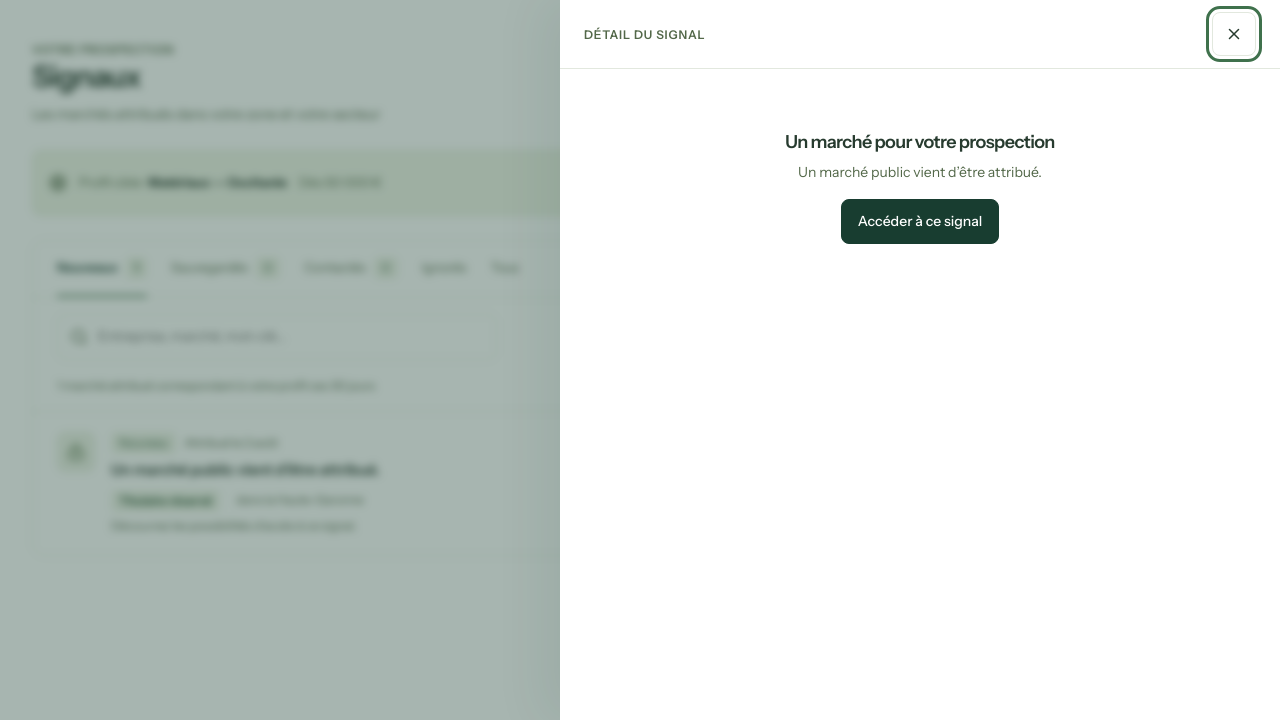
Scenario: signal verrouillé sur un compte payant › le détail n’invite pas à comparer une grille qu’un payant ne verra pas
The width and height of the screenshot is (1280, 720).
Click the button "Accéder à ce signal" at (920, 221), box 841,199 -> 999,244
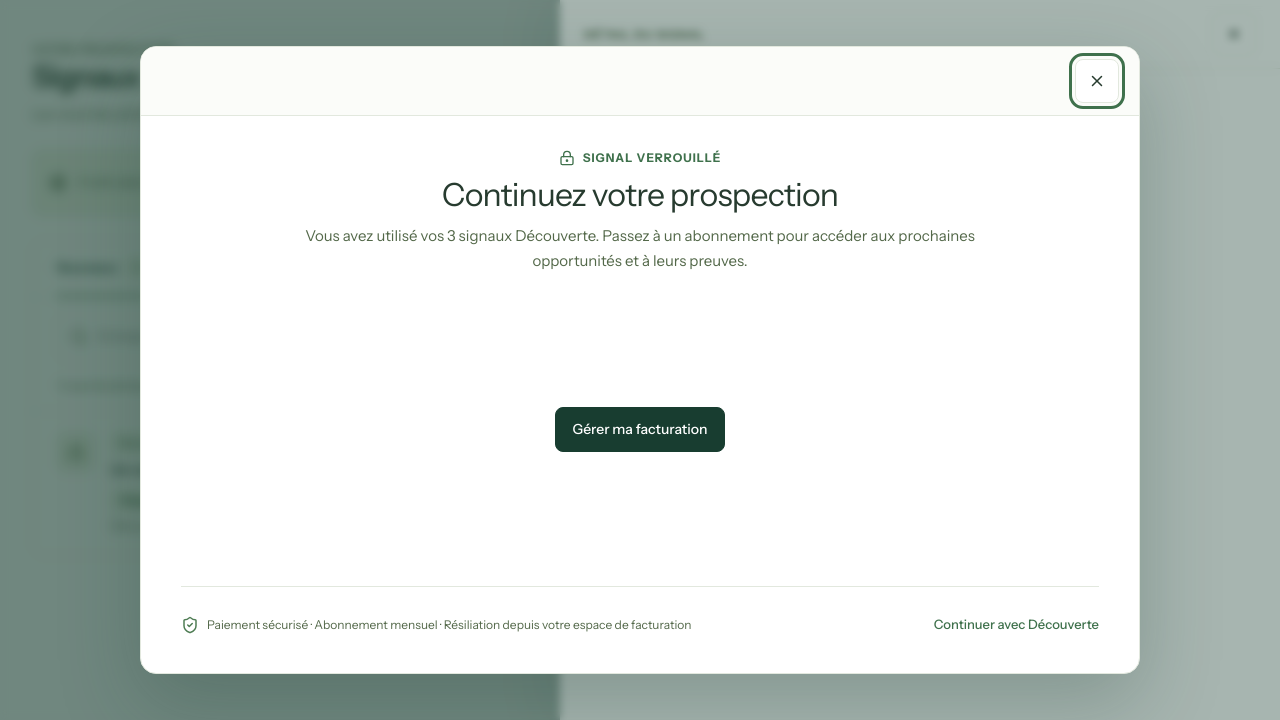
Result: the heading "Continuez votre prospection" is shown at 442,175 -> 838,214
Click the link "Gérer ma facturation" at (640, 430), box 556,407 -> 724,452
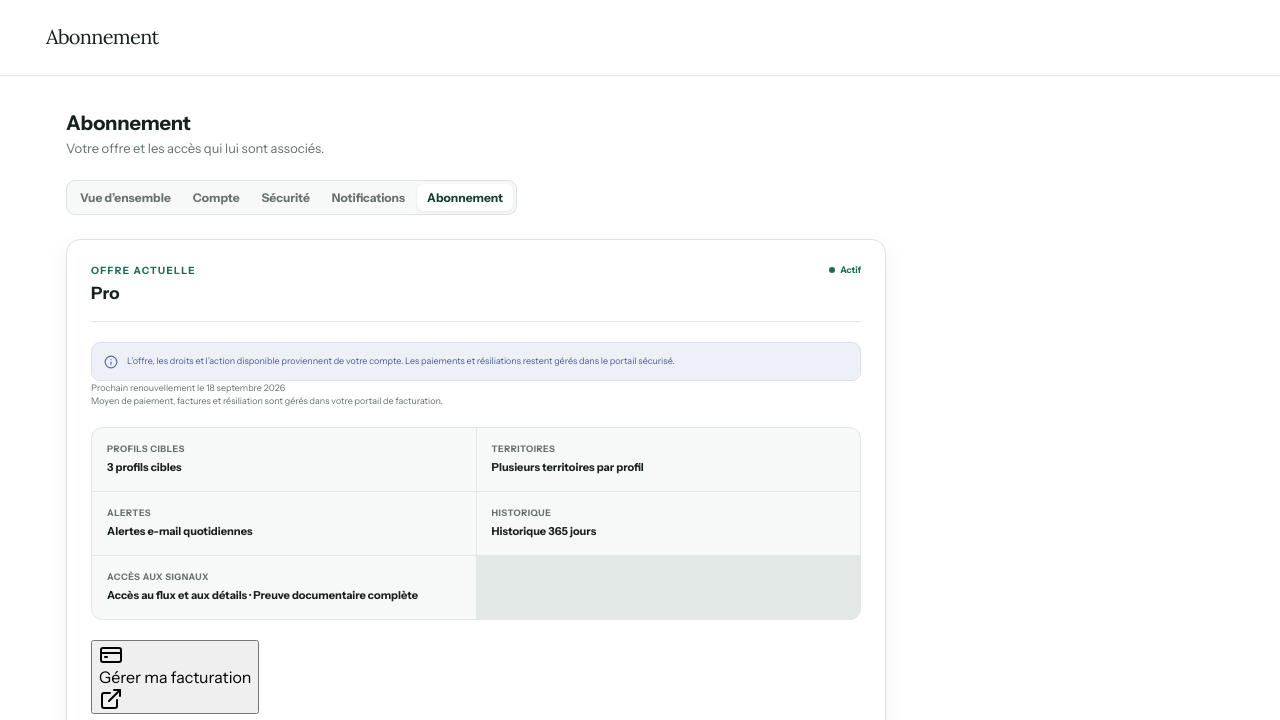
Result: the text "Historique 365 jours" is shown at 492,524 -> 596,538
